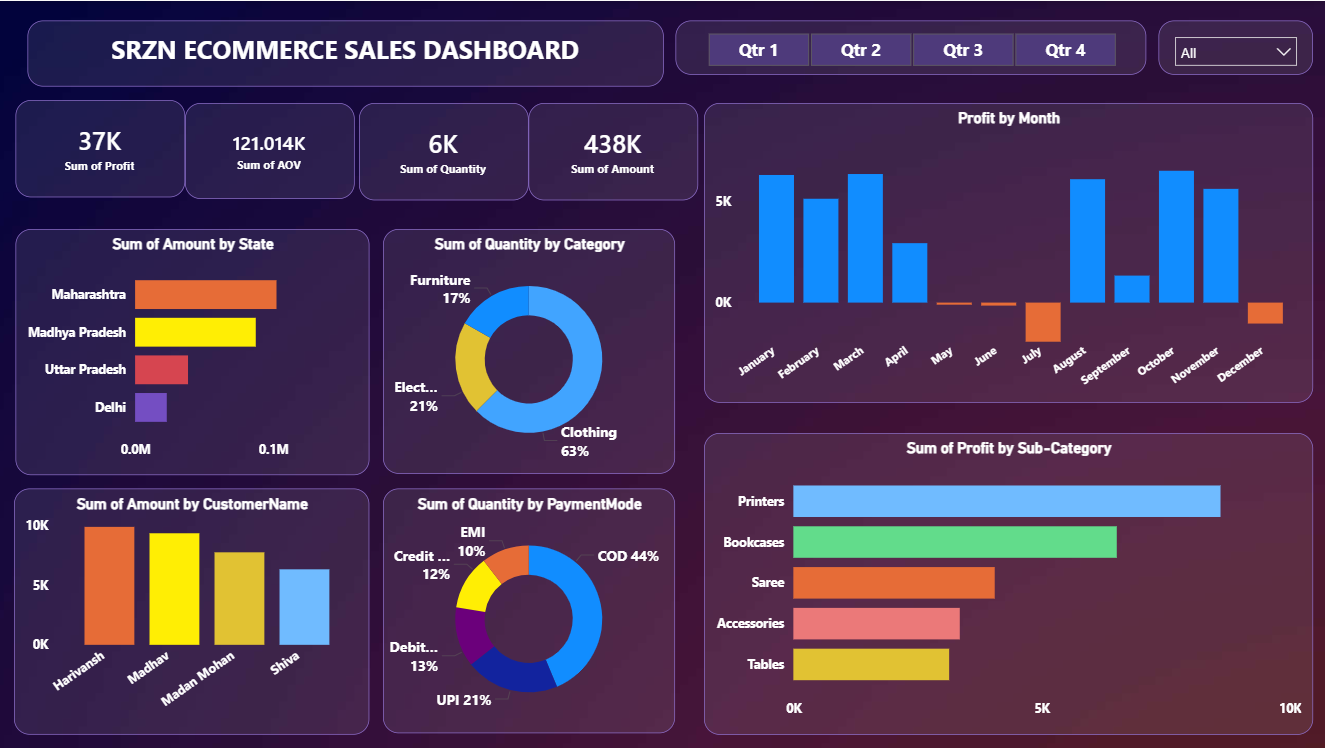

Layout of this report page (visuals, bound fields, positions):
{"tool":"powerbi","page":{"name":"Page 1","canvas":[1280,720],"ordinal":0},"visuals":[{"type":"textbox","box":[30.2,18.7,609.8,63.3],"z":0},{"type":"columnChart","title":"Profit by Month","fields":{"Category":["Orders.Order Date.Variation.Date Hierarchy.Month"],"Y":["Sum(Details.Profit)"]},"box":[678.8,97.8,583.9,287.6],"z":1000},{"type":"barChart","fields":{"Category":["Details.Sub-Category"],"Y":["Sum(Details.Profit)"]},"box":[678.8,414.2,583.9,289.1],"z":2000},{"type":"donutChart","fields":{"Category":["Details.Category"],"Y":["Sum(Details.Quantity)"]},"box":[371,218,280.1,234.7],"z":3000},{"type":"donutChart","fields":{"Y":["Sum(Details.Quantity)"],"Category":["Details.PaymentMode"]},"box":[371,467.9,280.1,234.7],"z":4000},{"type":"cardVisual","fields":{"Data":["Sum(Details.AOV)"]},"box":[181.2,97.8,162.5,92],"z":5000},{"type":"cardVisual","fields":{"Data":["Sum(Details.Quantity)"]},"box":[348,97.8,162.5,93.5],"z":6000},{"type":"cardVisual","fields":{"Data":["Sum(Details.Profit)"]},"box":[18.7,94.9,162.5,93.5],"z":7000},{"type":"cardVisual","fields":{"Data":["Sum(Details.Amount)"]},"box":[510.5,97.8,162.5,93.5],"z":8000},{"type":"barChart","fields":{"Category":["Orders.State"],"Y":["Sum(Details.Amount)"]},"box":[18.7,218.6,339.4,235.9],"z":9000},{"type":"columnChart","fields":{"Category":["Orders.CustomerName"],"Y":["Sum(Details.Amount)"]},"box":[16.7,467.9,340.7,236.2],"z":10000},{"type":"slicer","fields":{"Values":["Orders.Order Date.Variation.Date Hierarchy.Quarter"]},"box":[651.5,18.7,451.6,51.8],"z":11000},{"type":"slicer","fields":{"Values":["Orders.State"]},"box":[1114.5,18.7,148.1,51.8],"z":12000}]}

Visuals, with their boxes in screenshot pixels (x1, y1, x2, y2), scaled from the page's 1280x720 canvas onto the 1325x748 screenshot:
textbox: box(31, 19, 662, 85)
"Profit by Month" columnChart: box(703, 102, 1307, 400)
barChart - Details.Sub-Category x Sum(Details.Profit): box(703, 430, 1307, 731)
donutChart - Details.Category x Sum(Details.Quantity): box(384, 226, 674, 470)
donutChart - Sum(Details.Quantity) x Details.PaymentMode: box(384, 486, 674, 730)
cardVisual - Sum(Details.AOV): box(188, 102, 356, 197)
cardVisual - Sum(Details.Quantity): box(360, 102, 528, 199)
cardVisual - Sum(Details.Profit): box(19, 99, 188, 196)
cardVisual - Sum(Details.Amount): box(528, 102, 697, 199)
barChart - Orders.State x Sum(Details.Amount): box(19, 227, 371, 472)
columnChart - Orders.CustomerName x Sum(Details.Amount): box(17, 486, 370, 731)
slicer - Orders.Order Date.Variation.Date Hierarchy.Quarter: box(674, 19, 1142, 73)
slicer - Orders.State: box(1154, 19, 1307, 73)
